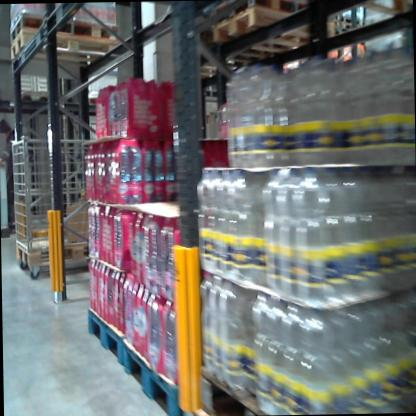pallet: (195, 353, 308, 414), (206, 10, 341, 61), (7, 23, 139, 69), (121, 332, 178, 414), (8, 10, 132, 45), (14, 231, 114, 274), (209, 0, 322, 31), (87, 301, 125, 375), (14, 84, 56, 108), (84, 93, 114, 109)
